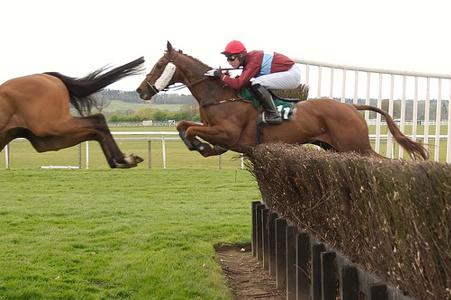person: (208, 39, 303, 125)
